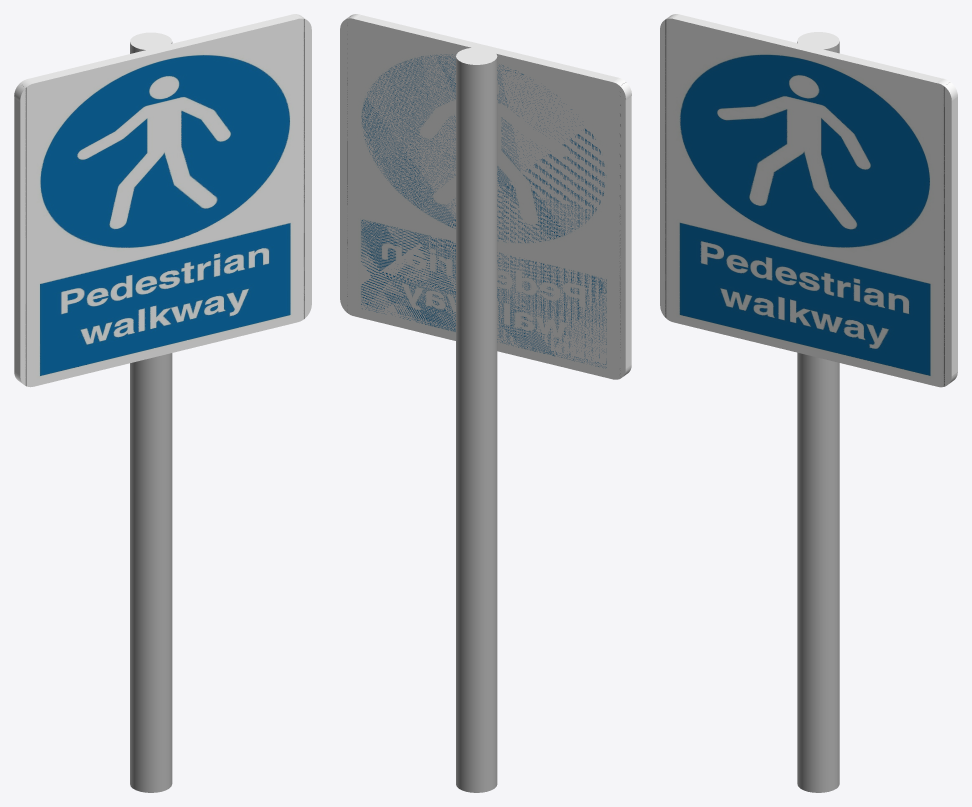
3 views of the same model, side by side, from view 1: azimuth 30°, elevation 25°; view 2: azimuth 150°, elevation 25°; view 3: azimuth 330°, elevation 25° (orthographic). The views are drawn at different scales.
Visible parts, largest first — view 1: SketchUp (×4); view 2: SketchUp (×3); view 3: SketchUp (×4).
Part boxes in pixels (box(x1,y1,x2,y2)): SketchUp (×4): box(14, 14, 311, 792); SketchUp (×3): box(340, 14, 631, 792); SketchUp (×4): box(660, 14, 957, 792).
Size of the model in its own units: 23.91 by 3.46 by 58.2.
3 materials, 1 textured.
